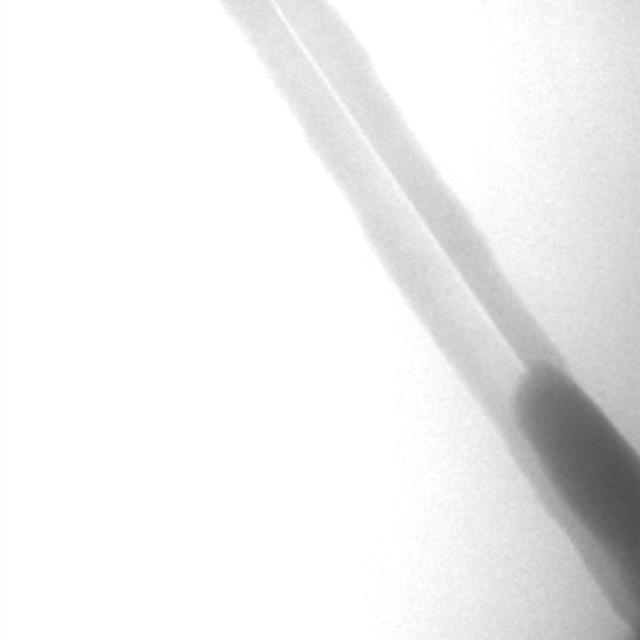broken arc: (271, 1, 523, 373)
